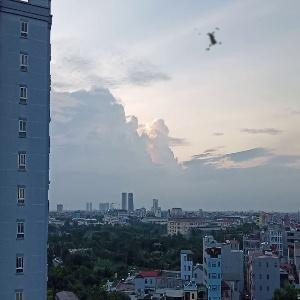drone: (182, 7, 245, 70)
